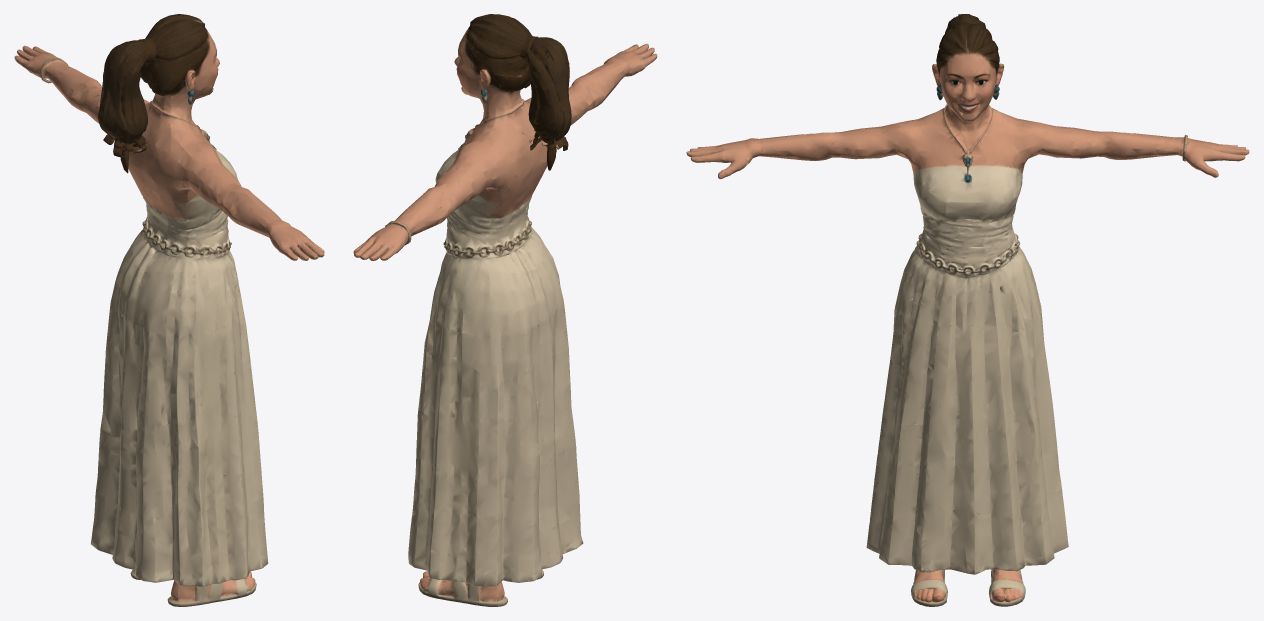
Rendered from rebecca.glb.
3 views of the same model, side by side, from view 1: azimuth 30°, elevation 25°; view 2: azimuth 150°, elevation 25°; view 3: azimuth 270°, elevation 25° (orthographic). The views are drawn at different scales.
Visible parts, largest first — view 1: mesh_node; view 2: mesh_node; view 3: mesh_node.
Part boxes in pixels (<box>): mesh_node: <box>14,14,324,606</box>; mesh_node: <box>353,14,657,606</box>; mesh_node: <box>686,14,1249,606</box>.
Size of the model in its own units: 0.4986 by 1.9 by 1.76.
1 material, 1 textured.
